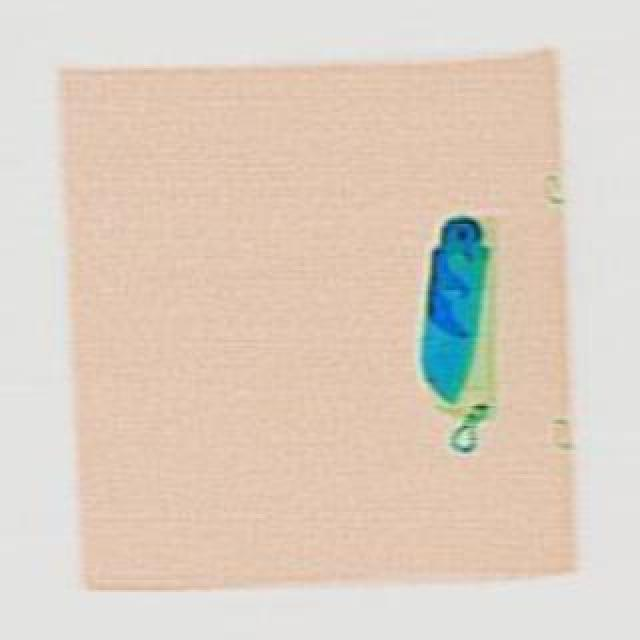knife: (410, 210, 490, 406)
